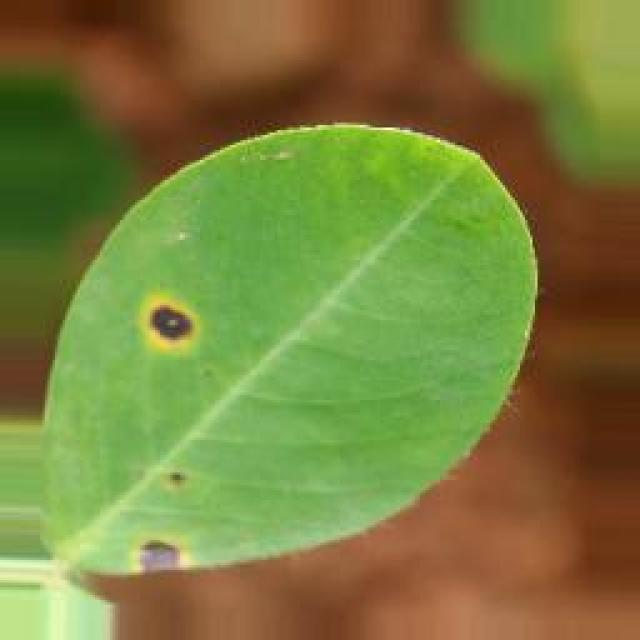Sigatoka: (110, 524, 214, 605), (125, 286, 213, 364), (144, 446, 215, 518)
